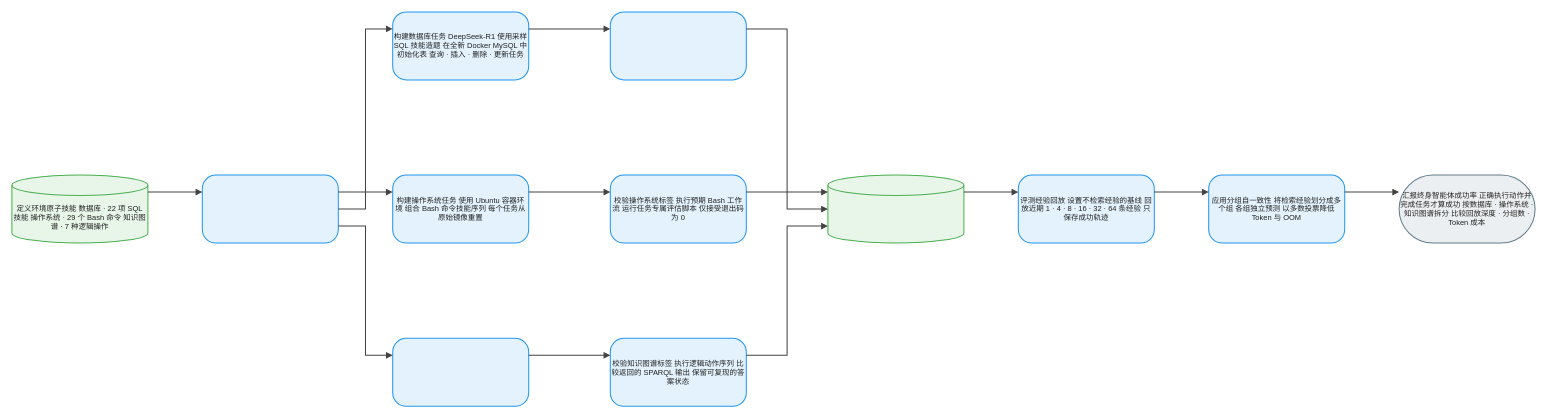
Image size: 1548x419. Some labels were removed from this diagram. The box of each missing label's shape, as (x1, y1, x2, y2) in pixels:
打包统一的终身任务流 共用智能体 · 环境 · 控制器接口 强制按严格顺序执行 人工复核 10% 的任务样本: (827, 174, 964, 243)
构建知识图谱任务 从 GrailQA S-expression 出发 将逻辑形式映射为智能体动作 生成兼容 SPARQL 的操作: (392, 337, 529, 407)
校验数据库标签 在 MySQL 中执行生成的 SQL 读取任务比较查询结果 写入任务哈希数据库状态: (609, 11, 747, 80)
采样技能驱动的任务计划 以概率机制提升稀有技能占比 改变复杂度 · 噪声 · 技能重叠 保留任务间依赖关系: (201, 174, 339, 243)
